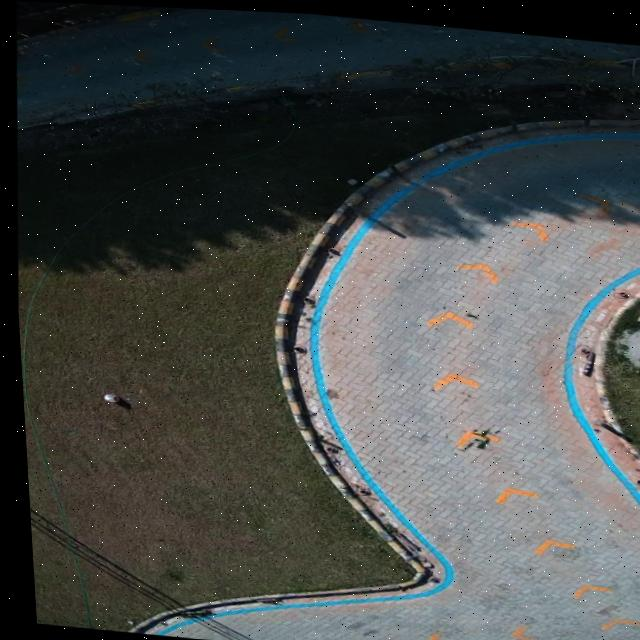No Car: (15, 1, 640, 640)
